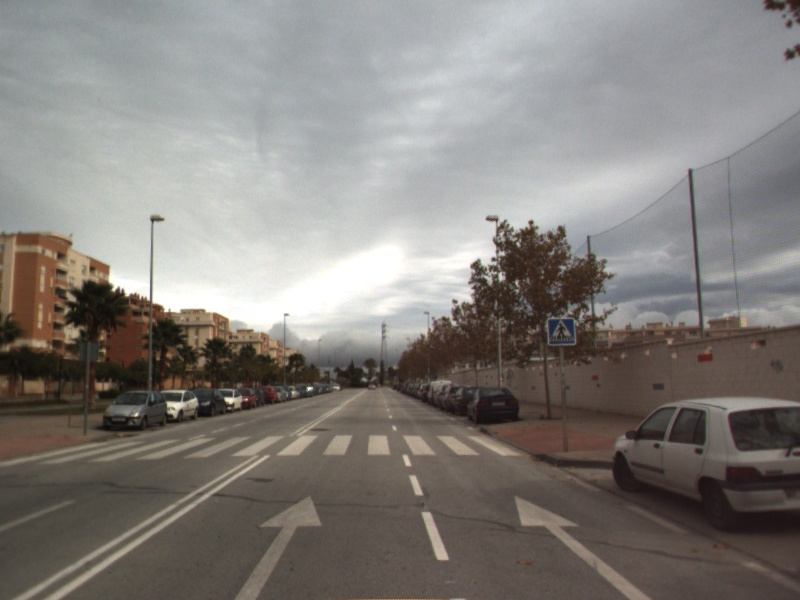STRAIGHT: (513, 494, 655, 600), (232, 493, 324, 600)
